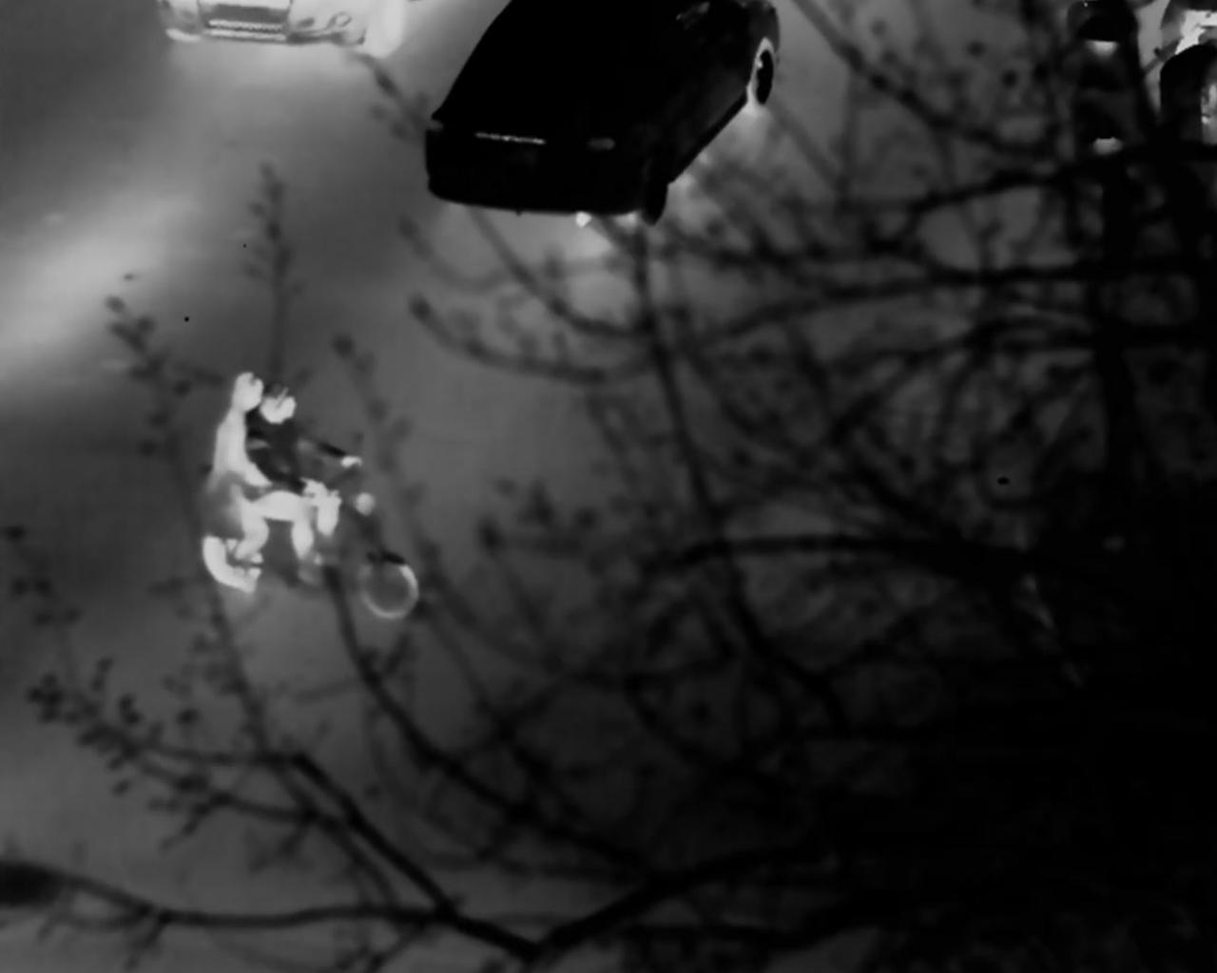person: (243, 388, 344, 570), (215, 373, 286, 569)
